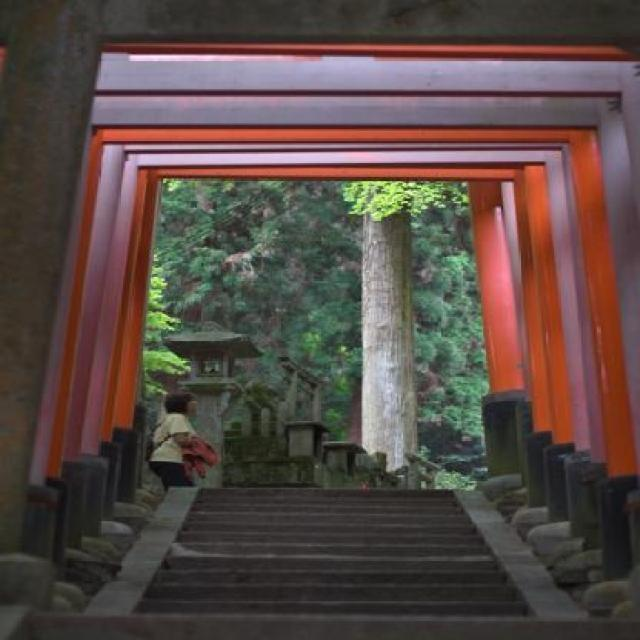stair: (27, 486, 640, 640)
